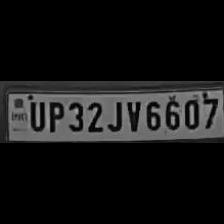0: (180, 96, 200, 130)
2: (84, 97, 104, 132)
3: (64, 98, 84, 132)
6: (141, 98, 161, 132), (162, 97, 180, 131)
7: (200, 94, 218, 130)
J: (106, 97, 122, 132)
P: (45, 97, 63, 132)
U: (26, 98, 44, 132)
V: (122, 97, 142, 132)
